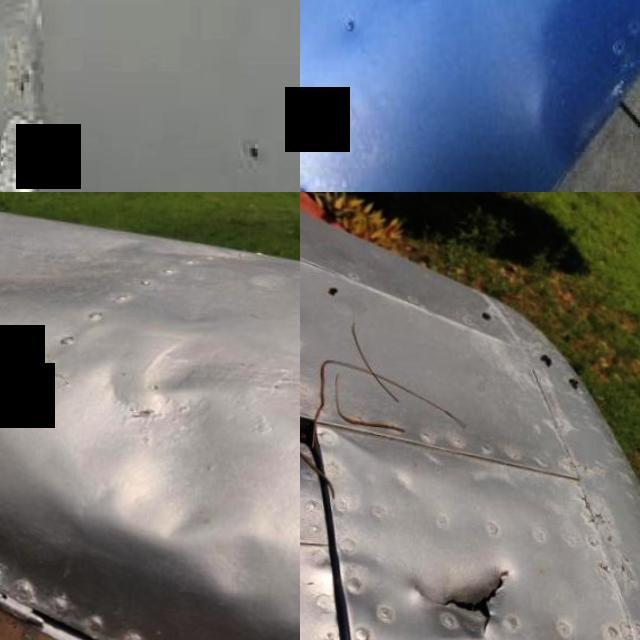Crack: (399, 556, 523, 640)
Dent: (37, 318, 290, 574), (193, 514, 300, 629), (0, 0, 49, 192), (529, 0, 565, 159)
